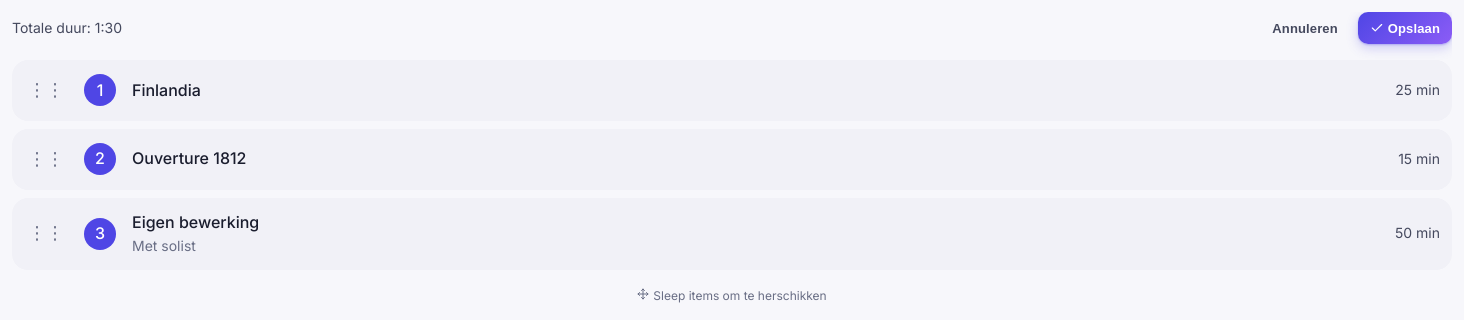
Scenario: ProjectSetlistSection: opslaan › herstelt de oude volgorde als opslaan mislukt
This screenshot has width=1464, height=320.
Step 1. Click the button "Opslaan" → (1405, 28), box [1358, 12, 1452, 44]
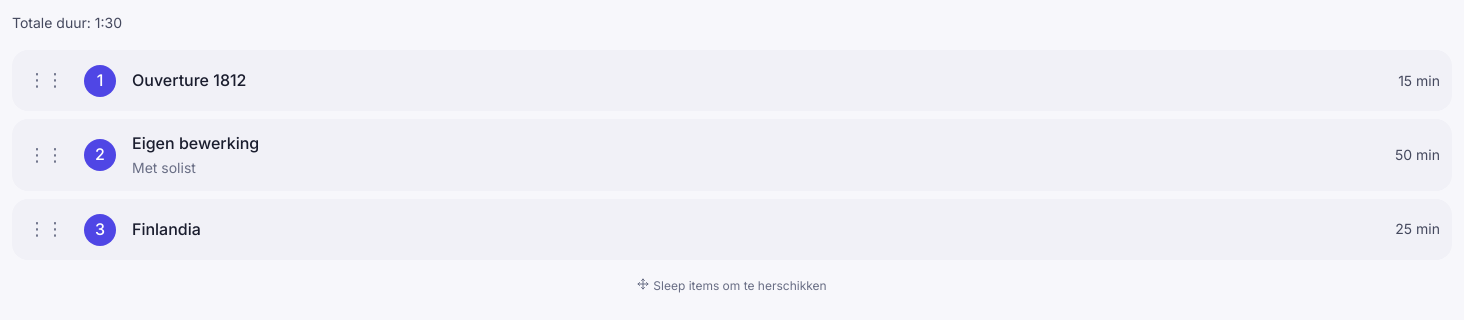
expect the button "Annuleren" is gone: met
